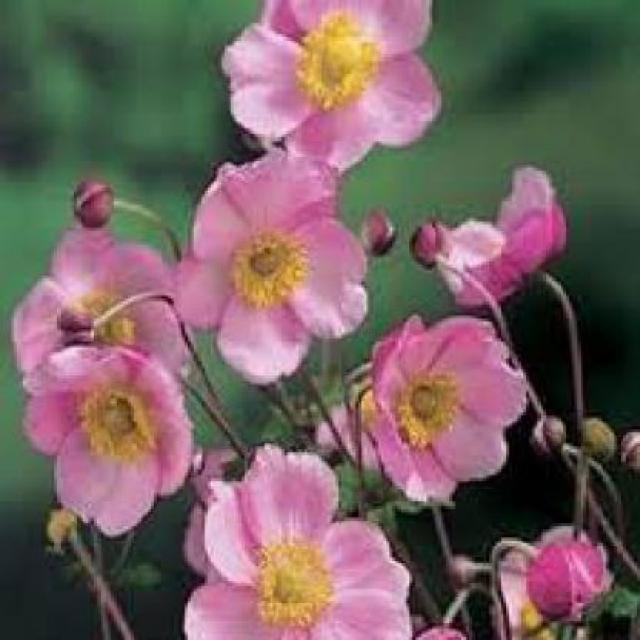Flower: (170, 153, 370, 384), (182, 444, 416, 638), (219, 2, 441, 176), (11, 222, 191, 409), (23, 345, 194, 537), (373, 313, 529, 504), (296, 14, 384, 111), (253, 535, 339, 626), (228, 228, 309, 309), (77, 387, 157, 461), (398, 369, 460, 449)
